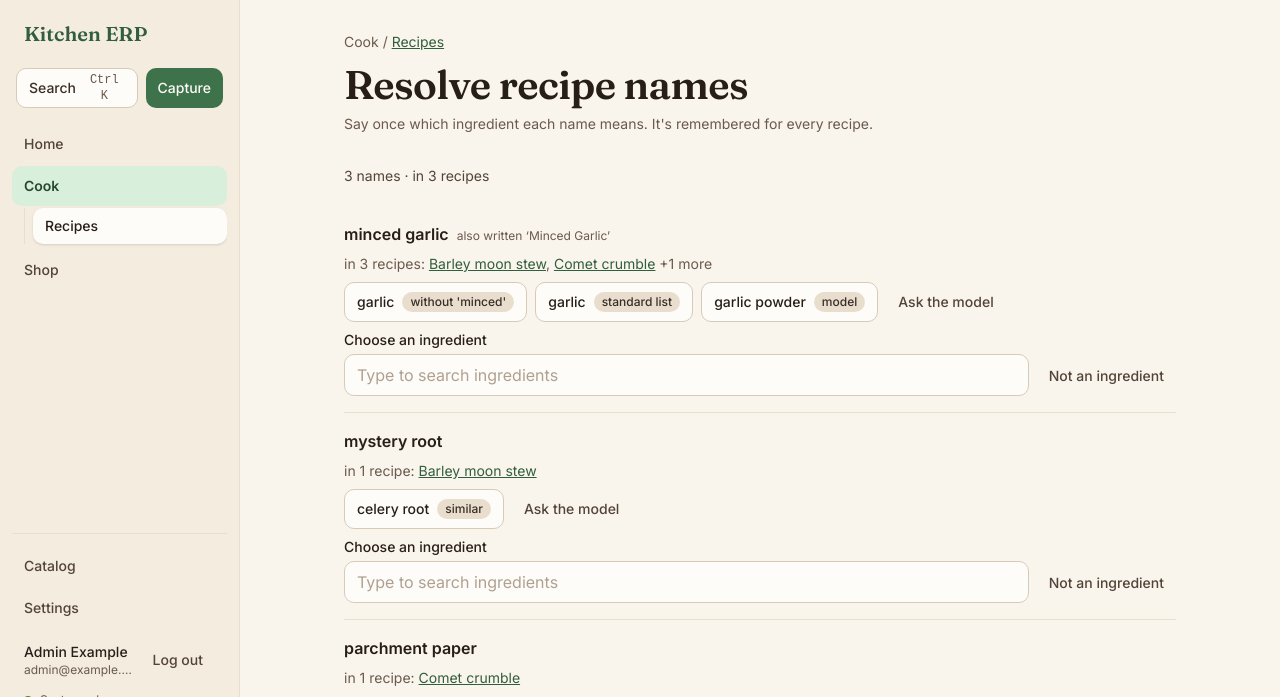
the resolve page (UI-7.16) › a proposal's decision removes the group, updates the count, shows the Notice and moves focus to the next row
The width and height of the screenshot is (1280, 697).
Click the button "garlic without 'minced'" at point(436, 302), box [344,282,527,322]
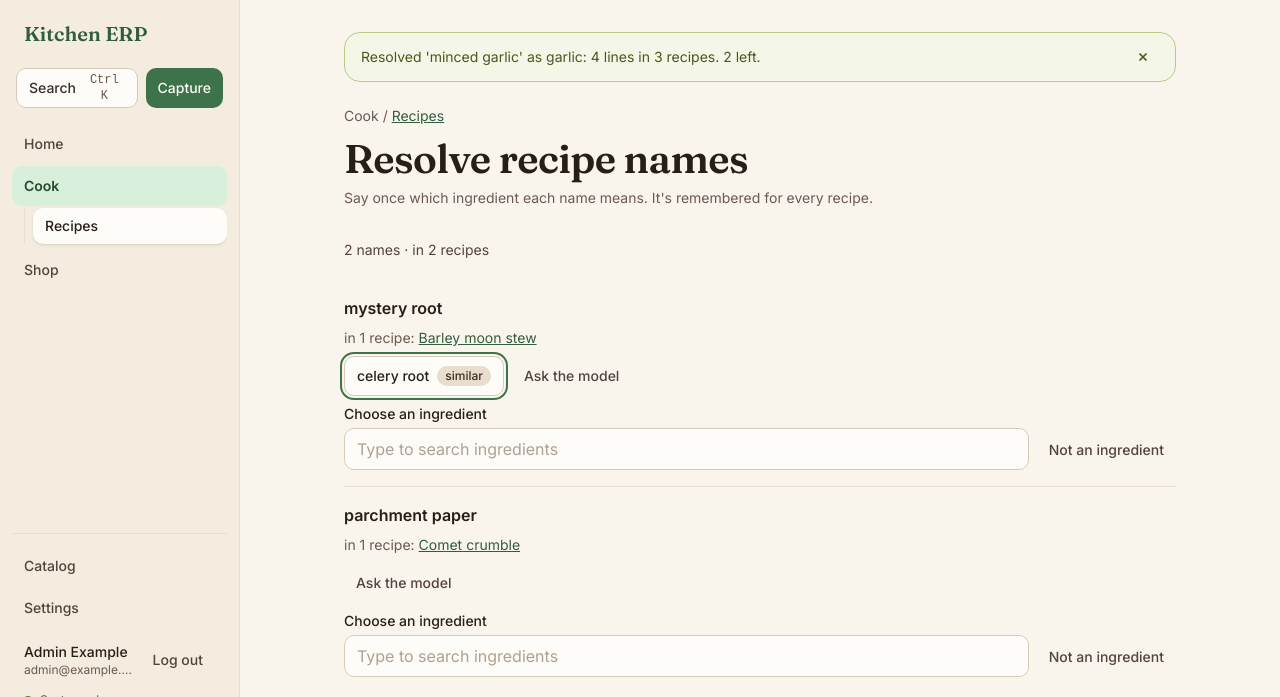
Expected: the text "also written ‘Minced Garlic’" is gone
Expected: the number of list items with test id "resolve-row" is 2, [344,280,1176,487]; [344,487,1176,693]
Expected: the text with test id "resolve-counts" reads "2 names · in 2 recipes", [344,241,489,258]
